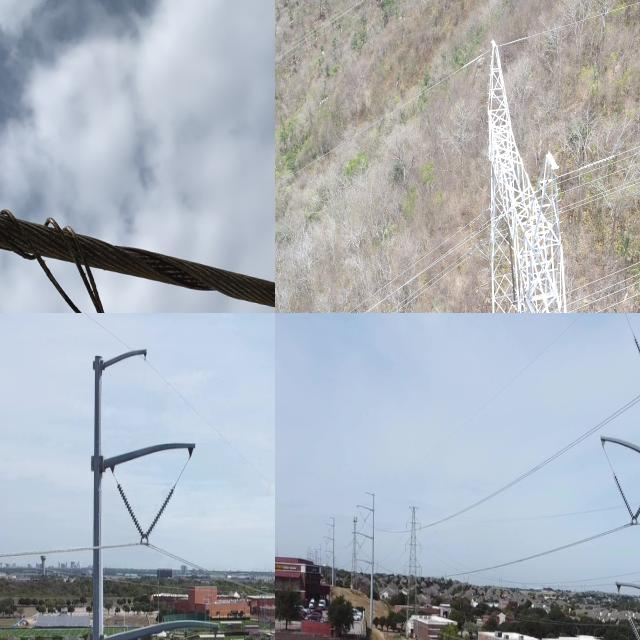杆塔: (475, 26, 587, 313), (402, 497, 429, 637), (346, 508, 364, 603)
正常绝缘子: (137, 479, 180, 551), (112, 476, 149, 547), (612, 470, 637, 522), (506, 213, 519, 306), (626, 613, 640, 640), (631, 333, 640, 357), (632, 502, 640, 524)
电缆破损: (0, 158, 275, 313)
